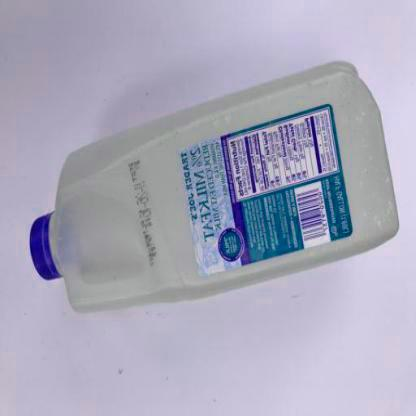Plastic: (26, 54, 403, 311)
